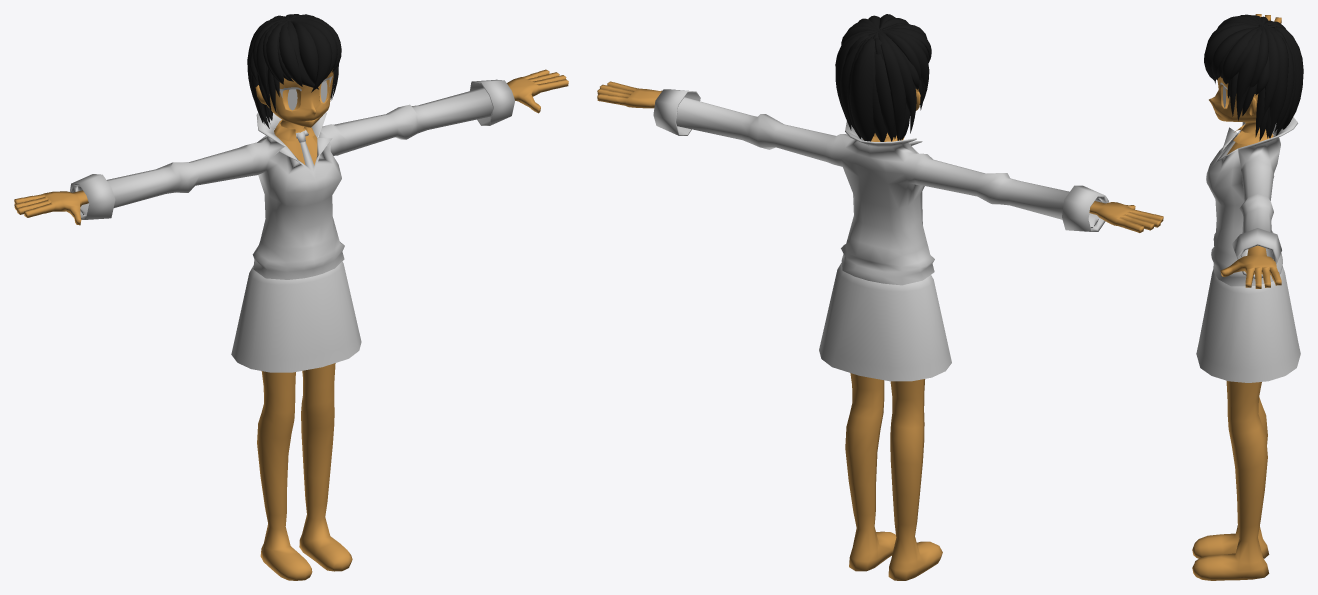
The model's file is miko model3.obj.
3 renders of one model, left to right at view 1: azimuth 30°, elevation 25°; view 2: azimuth 150°, elevation 25°; view 3: azimuth 270°, elevation 25°, orthographic. The views are drawn at different scales.
Parts seen in each view (by area): view 1: clothing, skin_like, hair; view 2: clothing, skin_like, hair; view 3: clothing, skin_like, hair.
Part boxes in pixels (<box>): clothing: <box>69,79,514,372</box>; skin_like: <box>14,69,568,580</box>; hair: <box>247,14,341,128</box>; clothing: <box>653,89,1108,381</box>; skin_like: <box>597,81,1163,580</box>; hair: <box>835,14,931,141</box>; clothing: <box>1196,117,1300,382</box>; skin_like: <box>1192,14,1281,580</box>; hair: <box>1204,14,1303,140</box>.
Bounding box in the file's own units: 15.8 × 14.8 × 2.75.
